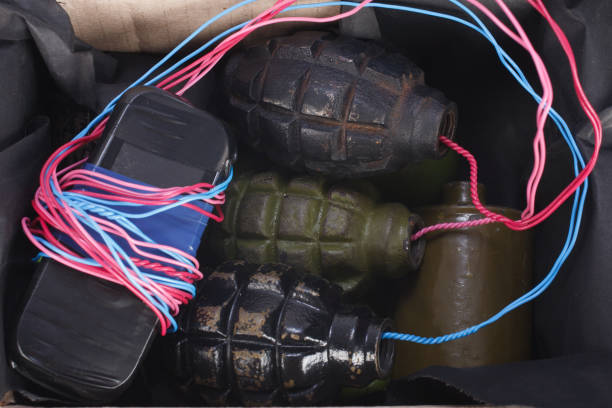e1: (202, 16, 465, 184), (156, 257, 423, 402)
